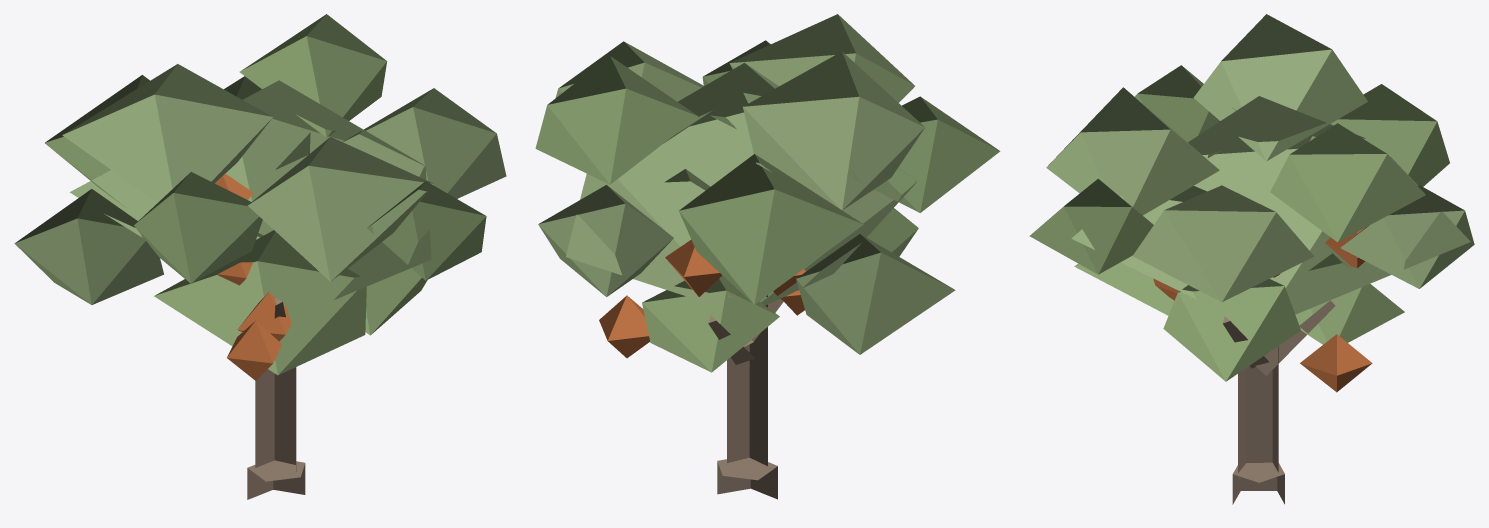
The model's file is tree.trop.mango__summer.glb.
3 renders of one model, left to right at view 1: azimuth 30°, elevation 25°; view 2: azimuth 150°, elevation 25°; view 3: azimuth 270°, elevation 25°, orthographic. The views are drawn at different scales.
Parts seen in each view (by area): view 1: tree.trop.mango__summer; view 2: tree.trop.mango__summer; view 3: tree.trop.mango__summer.
Boxes of the visible parts, x1,y1,x2,y2 form: tree.trop.mango__summer: (14, 14, 506, 499); tree.trop.mango__summer: (535, 14, 1000, 499); tree.trop.mango__summer: (1029, 14, 1474, 504).
Size of the model in its own units: 11.11 by 11.81 by 10.79.
